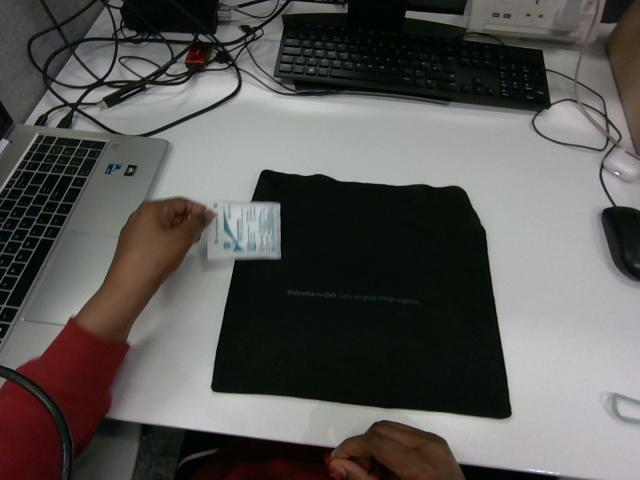gauze: (207, 201, 280, 259)
